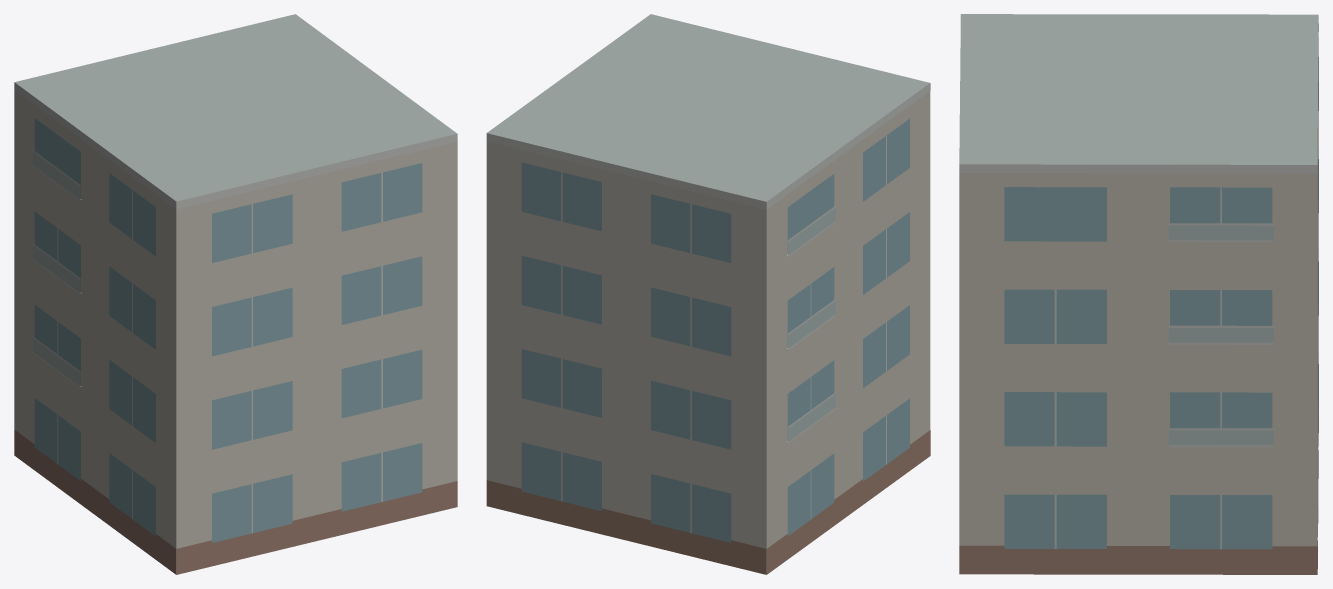
The model's file is survey-upis-32832449.glb.
3 renders of one model, left to right at view 1: azimuth 30°, elevation 25°; view 2: azimuth 150°, elevation 25°; view 3: azimuth 270°, elevation 25°, orthographic. The views are drawn at different scales.
Parts seen in each view (by area): view 1: survey-upis-32832449.tmp; view 2: survey-upis-32832449.tmp; view 3: survey-upis-32832449.tmp.
Boxes of the visible parts, left/top/right/bottom form: survey-upis-32832449.tmp: left=14, top=14, right=457, bottom=574; survey-upis-32832449.tmp: left=486, top=14, right=930, bottom=574; survey-upis-32832449.tmp: left=959, top=14, right=1318, bottom=574.
Bounding box in the file's own units: 9.22 × 11.6 × 9.23.
